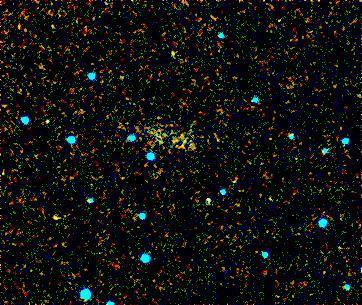star: (141, 103, 171, 133)
